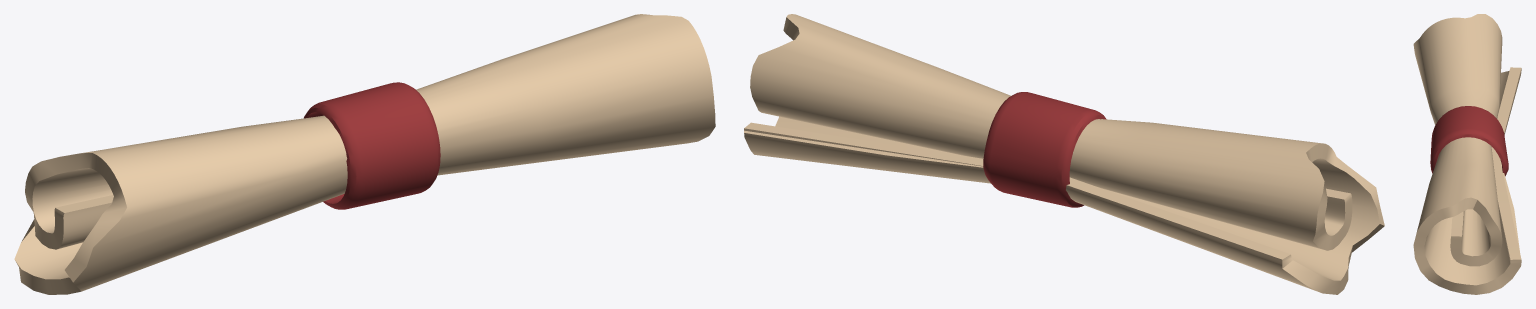
Rendered from Scroll.fbx.
The picture shows the model from 3 angles, left to right: view 1: azimuth 30°, elevation 25°; view 2: azimuth 150°, elevation 25°; view 3: azimuth 270°, elevation 25°; orthographic projection. The views are drawn at different scales.
Visible parts, largest first — view 1: ScrollItem; view 2: ScrollItem; view 3: ScrollItem.
Boxes of the visible parts, x1,y1,x2,y2 form: ScrollItem: (14,14,715,294); ScrollItem: (744,14,1384,294); ScrollItem: (1413,14,1521,294).
Size of the model in its own units: 401 by 79.41 by 87.56.
